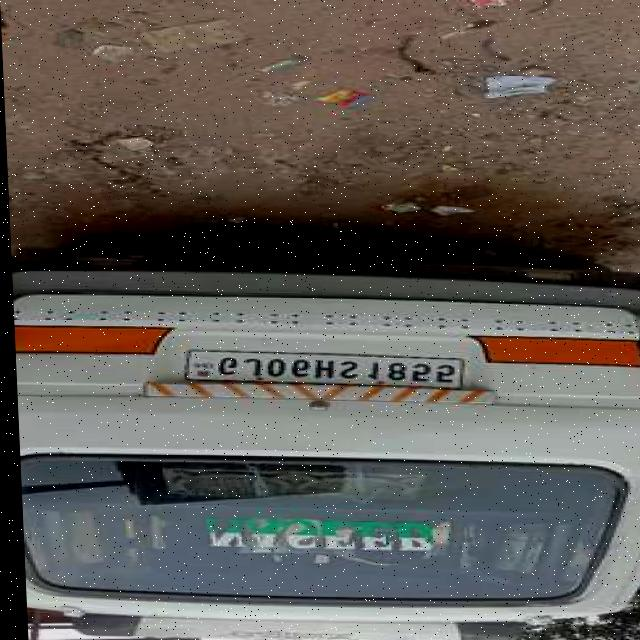plate: (188, 352, 462, 390)
